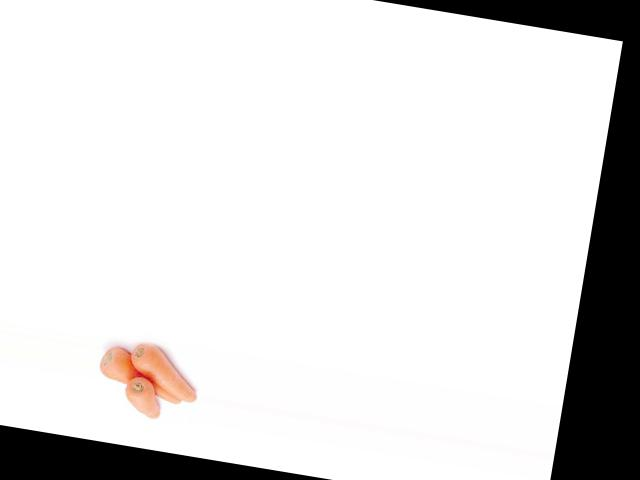carrot: (93, 342, 198, 407)
